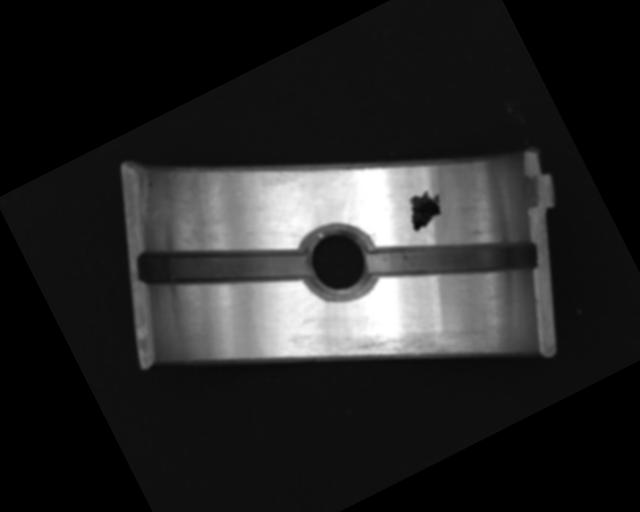blot: (400, 183, 452, 234)
gap: (133, 190, 313, 342), (364, 188, 543, 334)
hole: (287, 212, 389, 315)
scratch: (334, 285, 498, 415)
